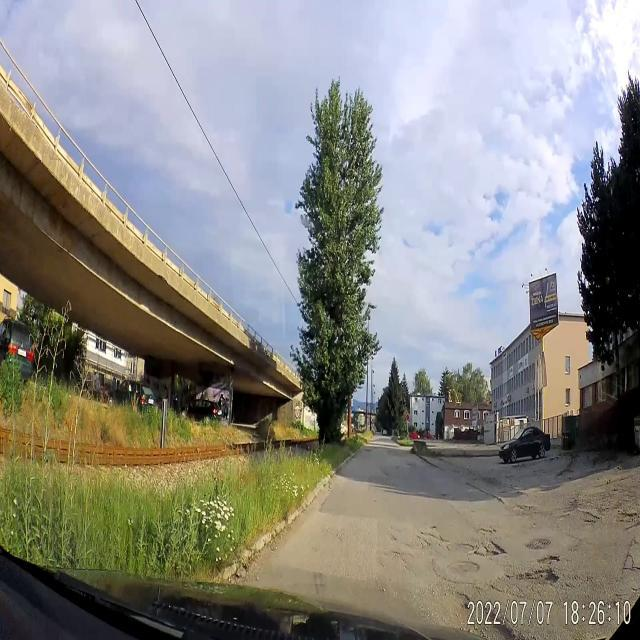Manhole: (444, 560, 486, 580), (446, 540, 476, 560), (524, 534, 554, 551)
Pothole: (453, 591, 513, 640), (508, 562, 569, 592), (478, 532, 508, 568), (562, 502, 604, 526), (412, 523, 444, 554), (617, 508, 639, 526)
